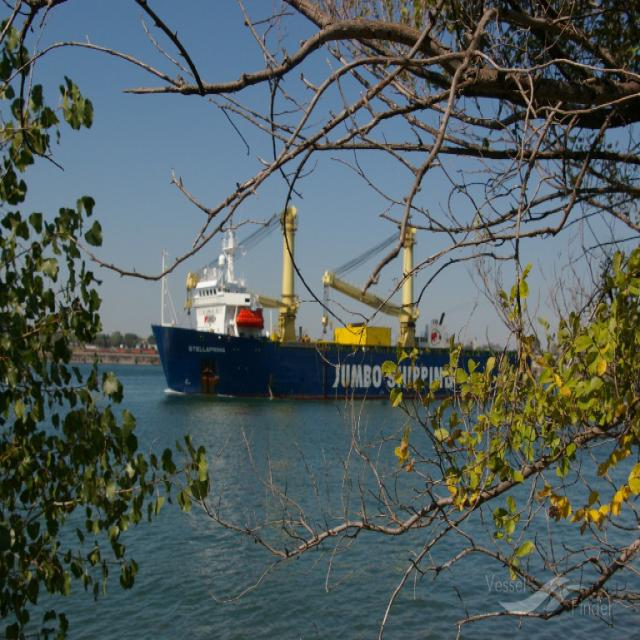OCR: (328, 356, 462, 403)
